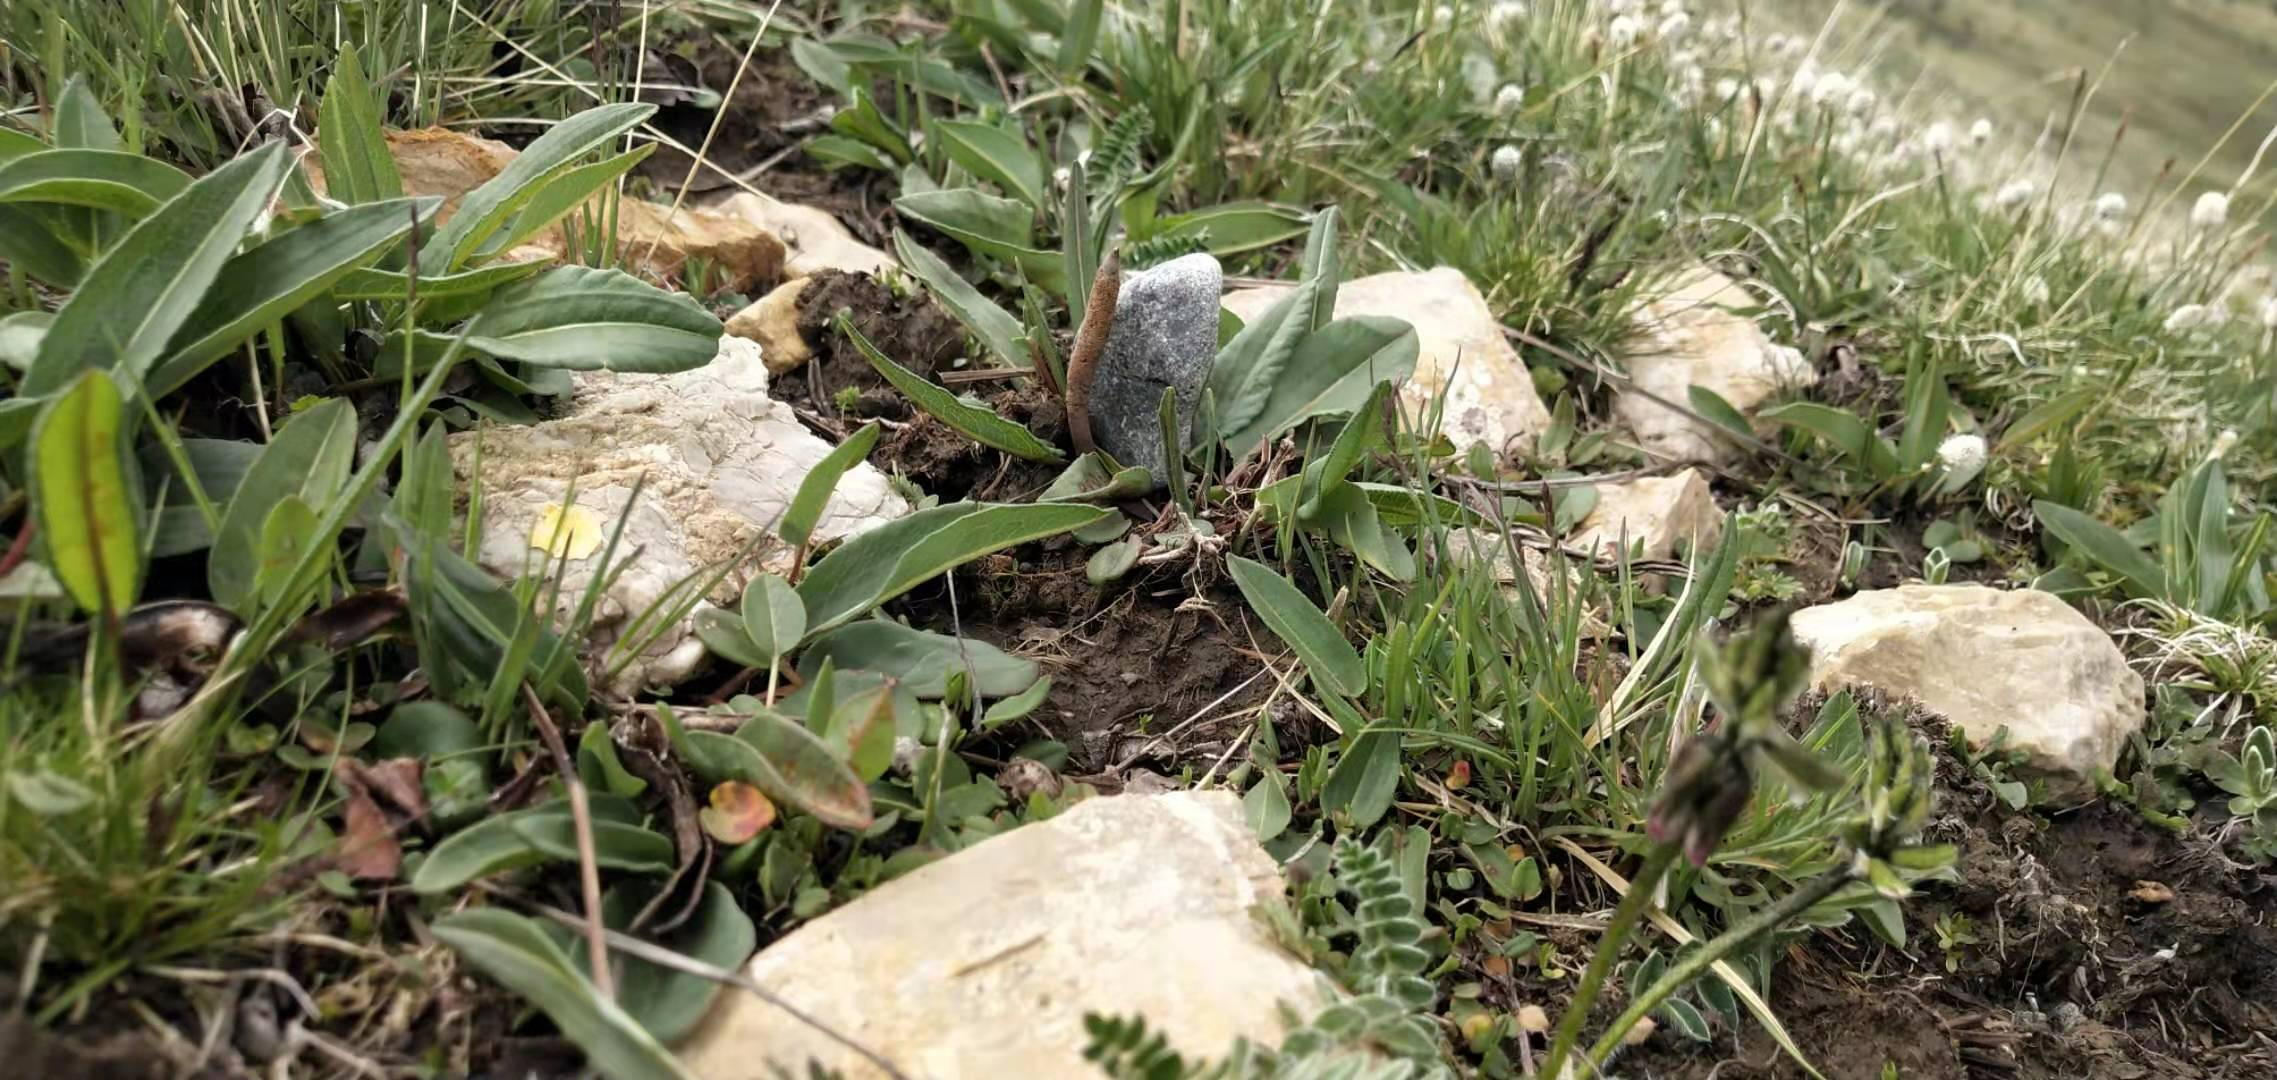cpf: (1062, 241, 1128, 462)
